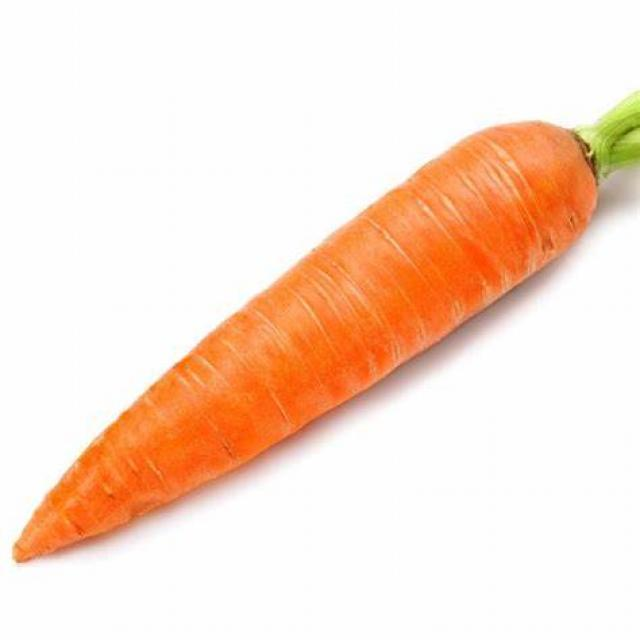Carrot: (15, 97, 640, 559)
